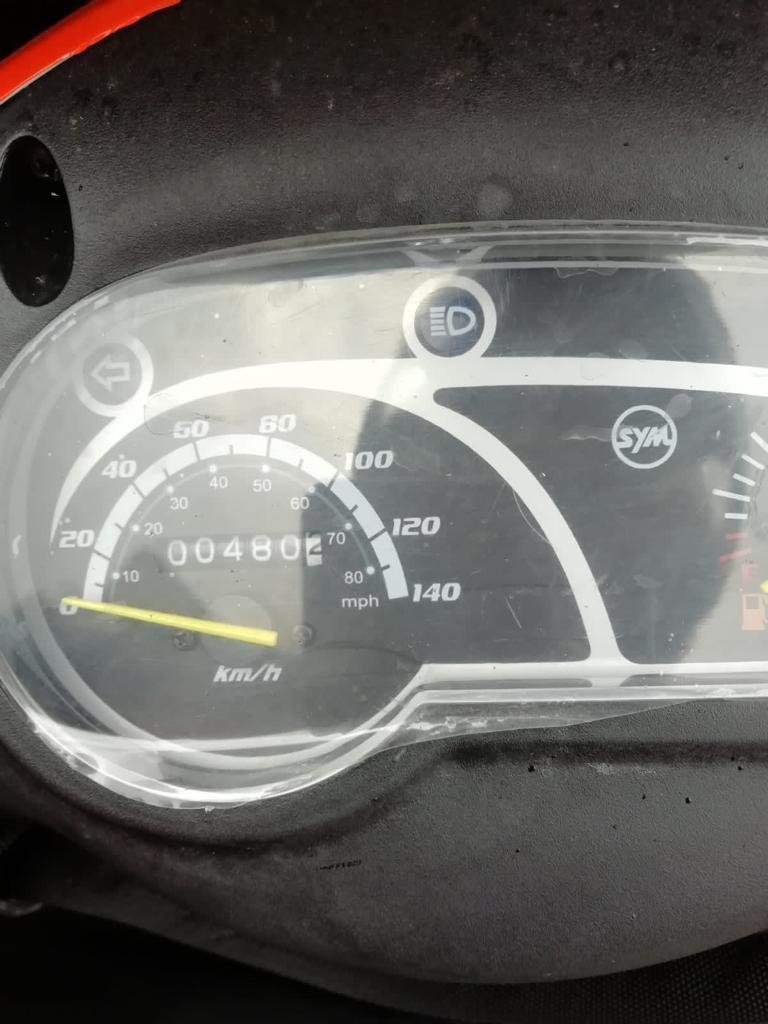0: (279, 532, 300, 561), (167, 538, 187, 566), (195, 536, 215, 564)
2: (307, 529, 325, 555)
4: (222, 535, 243, 561)
8: (251, 533, 272, 562)
odometer: (147, 528, 326, 577)
